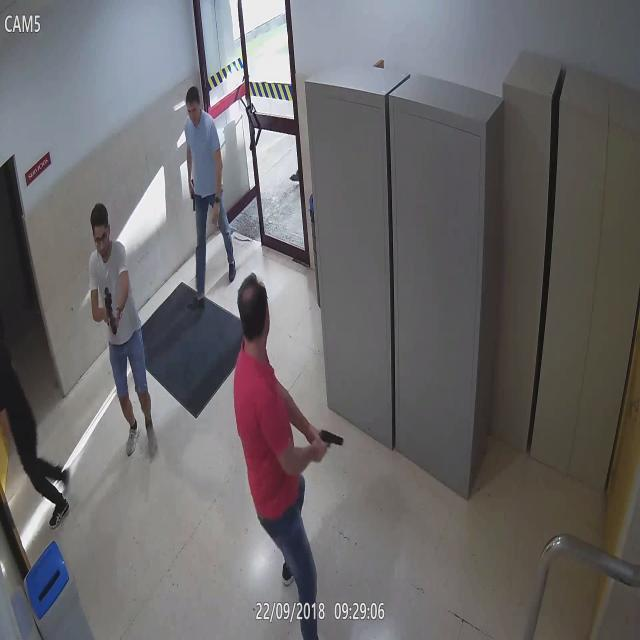Gun: (312, 414, 363, 464), (90, 286, 135, 336)
